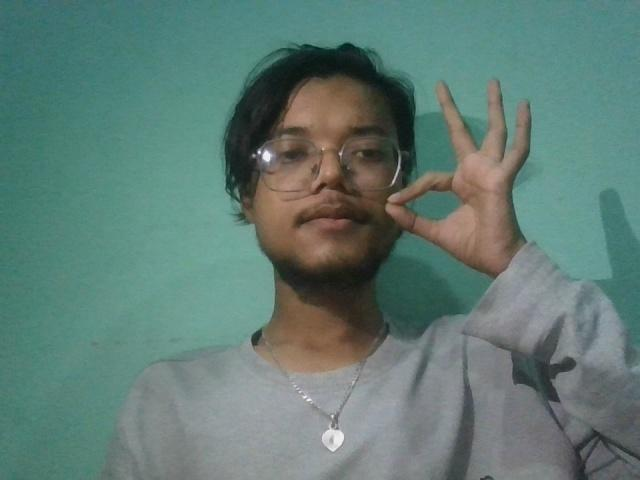Cat: (378, 70, 546, 312)
